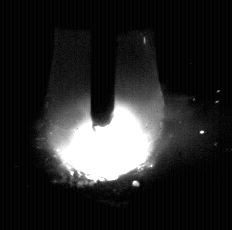arame: (91, 0, 116, 126)
poca: (45, 0, 163, 230)
